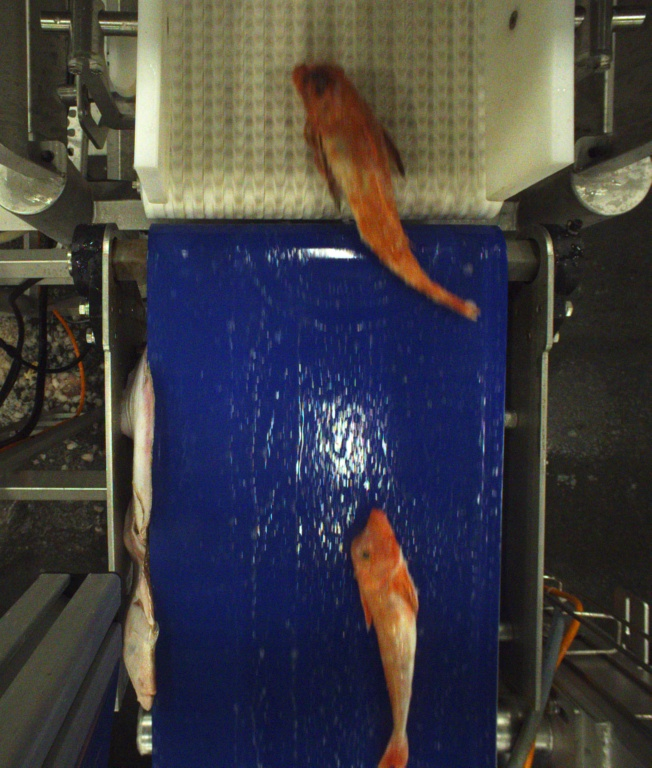GUU: (350, 508, 421, 768)
